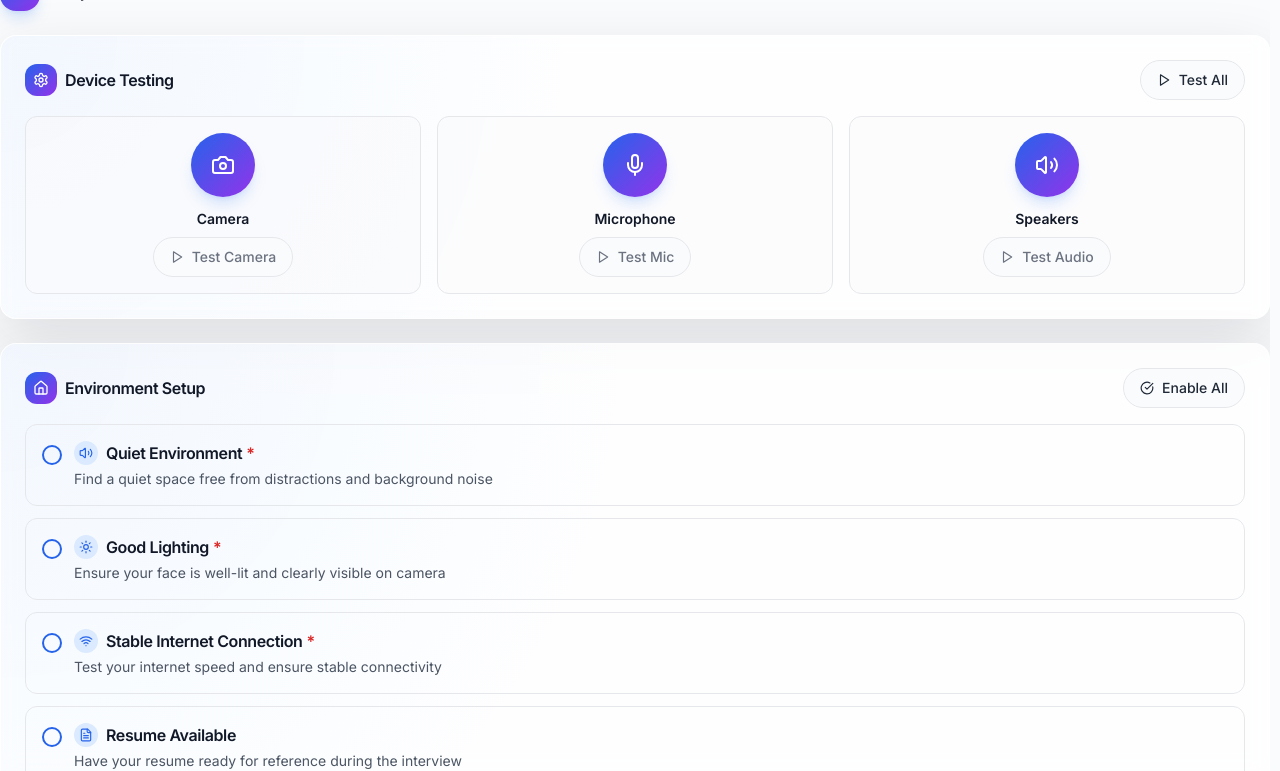
Test case: PreparationChecklist › keeps the checklist complete when device tests fail and shows reduced-media guidance
Click the button "Enable All" at (1184, 388), box [1123,368,1245,408]
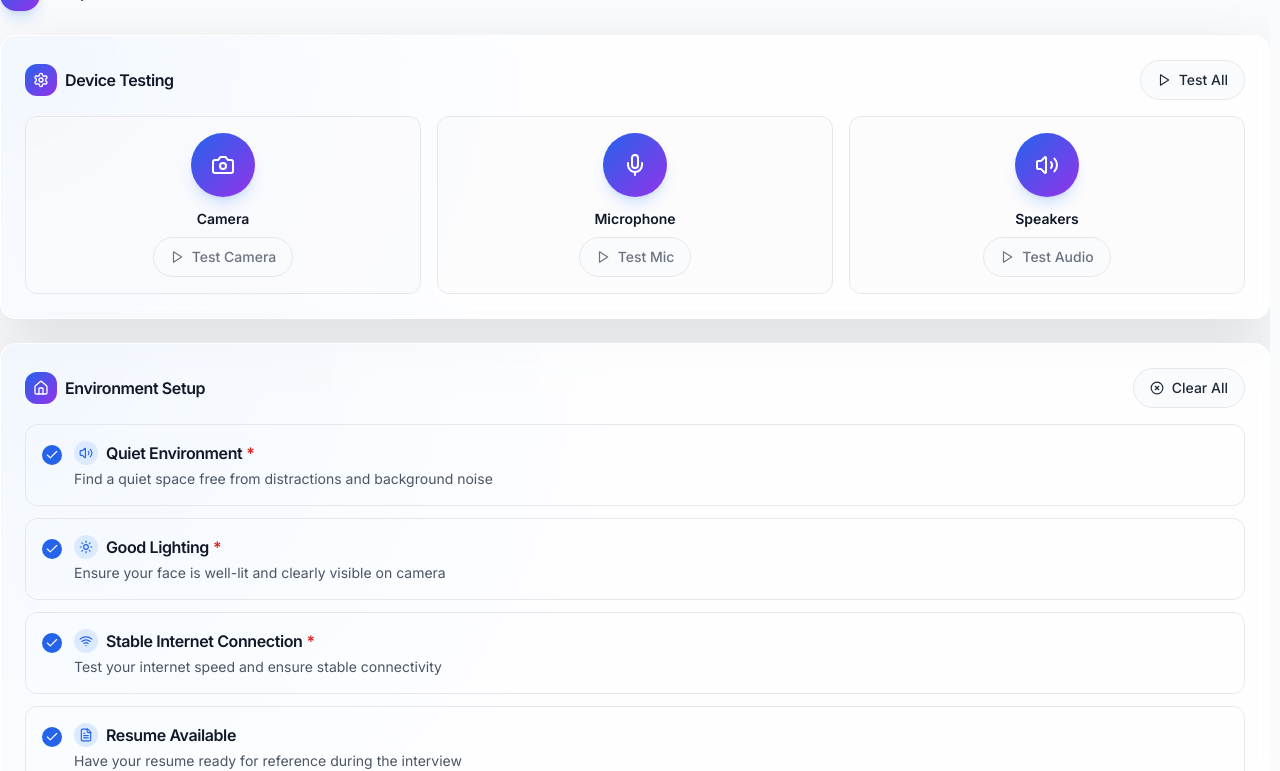
Click the button "Test Camera" at (223, 257), box [153,237,293,277]
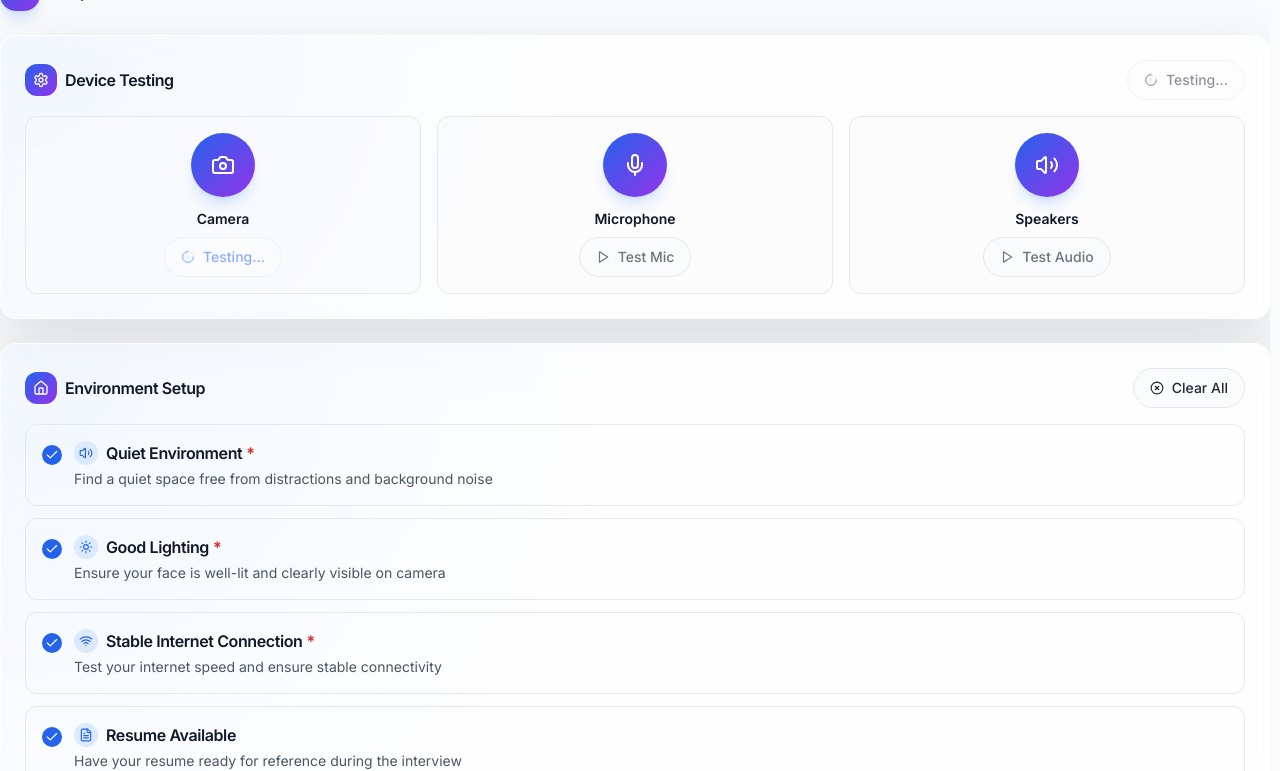
Click the button "Test Mic" at (635, 257), box [579,237,691,277]
(page scrolled)
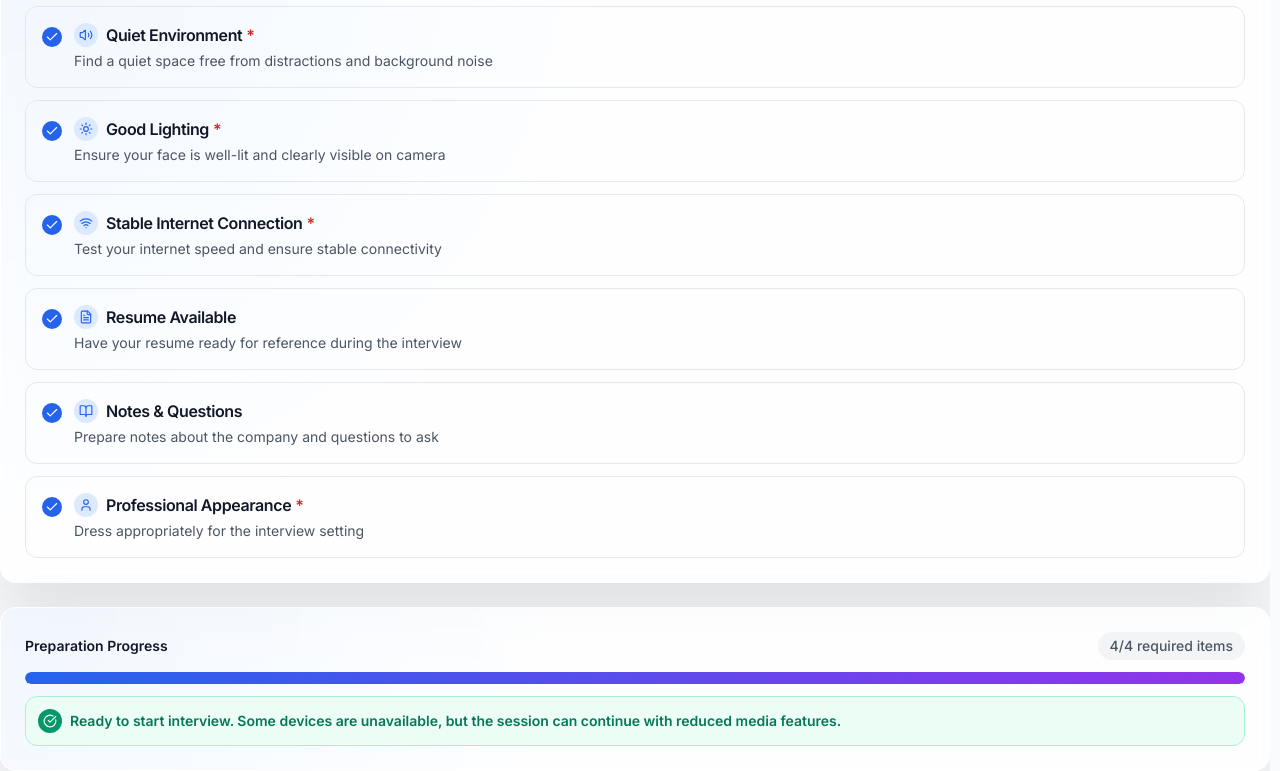
Expected: the text "some devices are unavailable, but the session can continue with reduced media features" is shown, [70,712,841,729]
